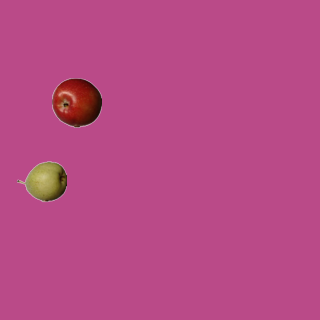Apple Braeburn: (51, 77, 101, 127)
Pear: (16, 156, 66, 206)
